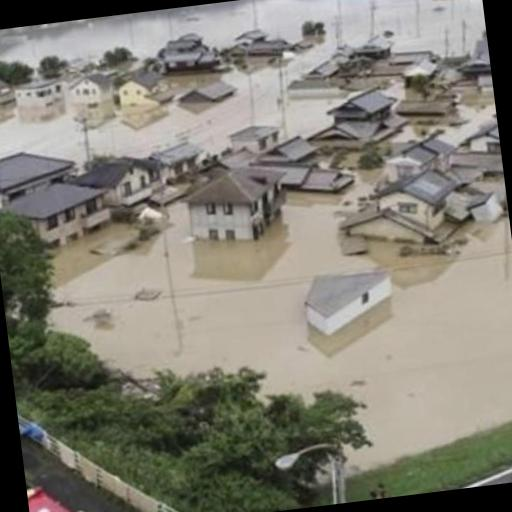flood: (49, 150, 512, 471), (0, 0, 486, 172), (378, 81, 497, 153)
house: (182, 158, 282, 252), (298, 266, 400, 340), (371, 166, 464, 242), (14, 178, 104, 244), (0, 144, 77, 205), (25, 467, 115, 512), (90, 154, 164, 205), (326, 88, 396, 134), (161, 35, 214, 72), (178, 80, 236, 110), (233, 26, 285, 58), (14, 77, 65, 109), (114, 72, 160, 102), (69, 72, 110, 100)
